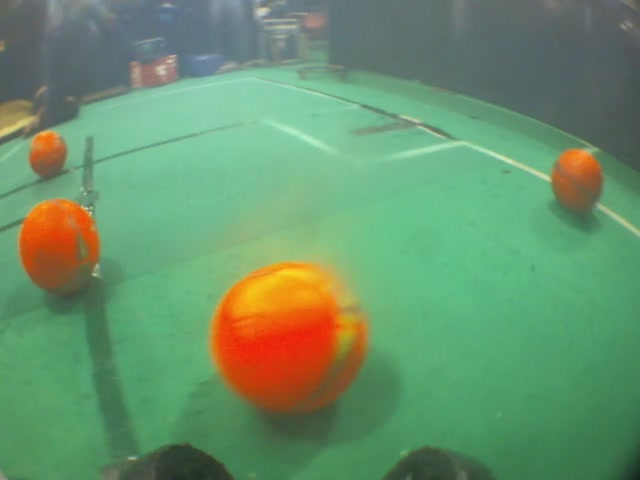ball: (207, 257, 381, 430), (13, 195, 107, 301), (545, 143, 607, 222), (23, 127, 70, 180)
